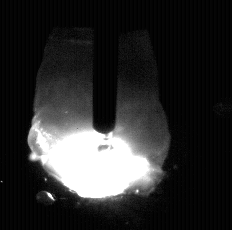arame: (93, 0, 118, 134)
poca: (27, 0, 171, 230)
